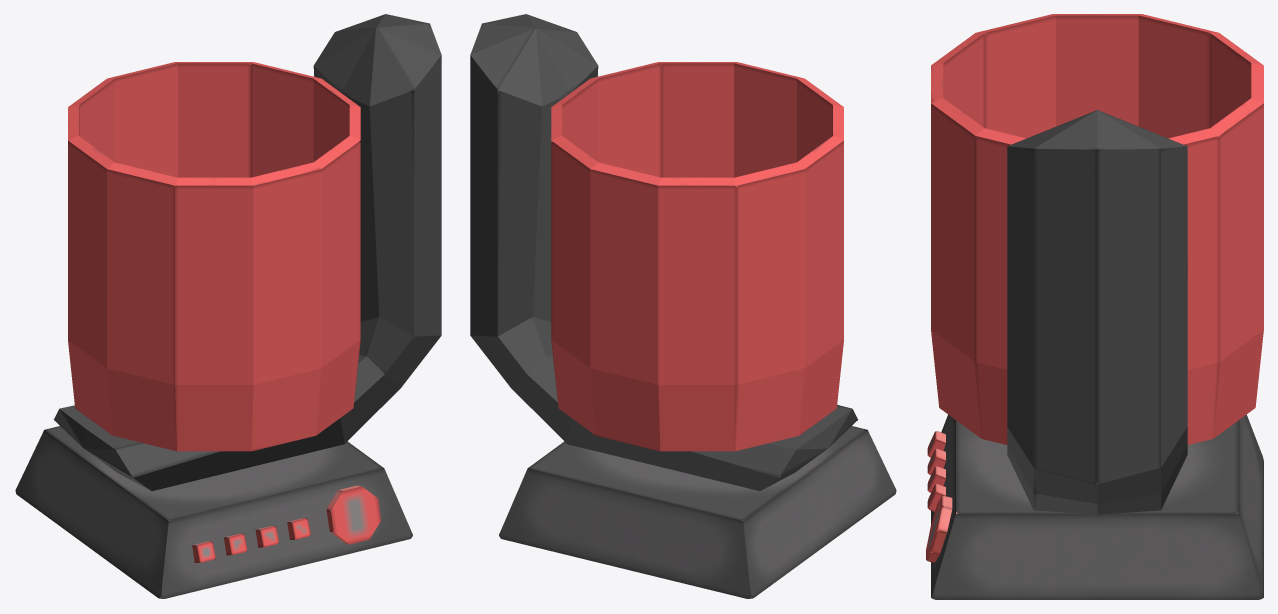
Rendered from Mixer.fbx.
3 views of the same model, side by side, from view 1: azimuth 30°, elevation 25°; view 2: azimuth 150°, elevation 25°; view 3: azimuth 270°, elevation 25° (orthographic). The views are drawn at different scales.
Visible parts, largest first — view 1: cylinder, torus, cuboid, cylinder_1; view 2: cylinder, torus, cuboid; view 3: cylinder, torus, cuboid, cylinder_1.
Boxes of the visible parts, box(x1,y1,x2,y2) form: cylinder: box(68, 62, 360, 451); torus: box(54, 14, 441, 490); cuboid: box(15, 426, 412, 598); cylinder_1: box(326, 485, 381, 544); cylinder: box(551, 62, 843, 451); torus: box(470, 14, 857, 490); cuboid: box(499, 426, 896, 598); cylinder: box(931, 14, 1263, 444); torus: box(1007, 110, 1187, 514); cuboid: box(931, 414, 1263, 599); cylinder_1: box(926, 495, 957, 562).
Bounding box in the file's own units: 84 × 104 × 62.44.
Materials: 1 (1 with a texture image).
